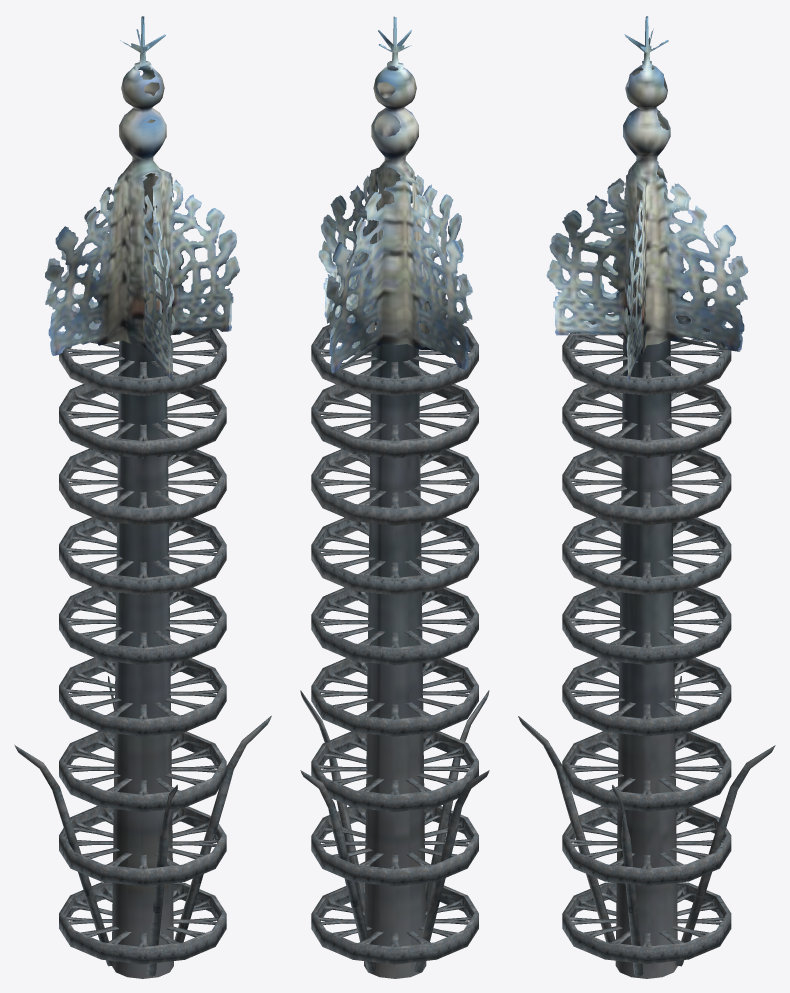
File: JapaneseSpiralPinacle.fbx
3 renders of one model, left to right at view 1: azimuth 30°, elevation 25°; view 2: azimuth 150°, elevation 25°; view 3: azimuth 270°, elevation 25°, orthographic.
Parts seen in each view (by area): view 1: default; view 2: default; view 3: default.
Boxes of the visible parts, bbox=[...] form: default: bbox=[14, 16, 271, 978]; default: bbox=[300, 16, 489, 978]; default: bbox=[518, 16, 775, 978].
Bounding box in the file's own units: 1198 × 4875 × 1198.
